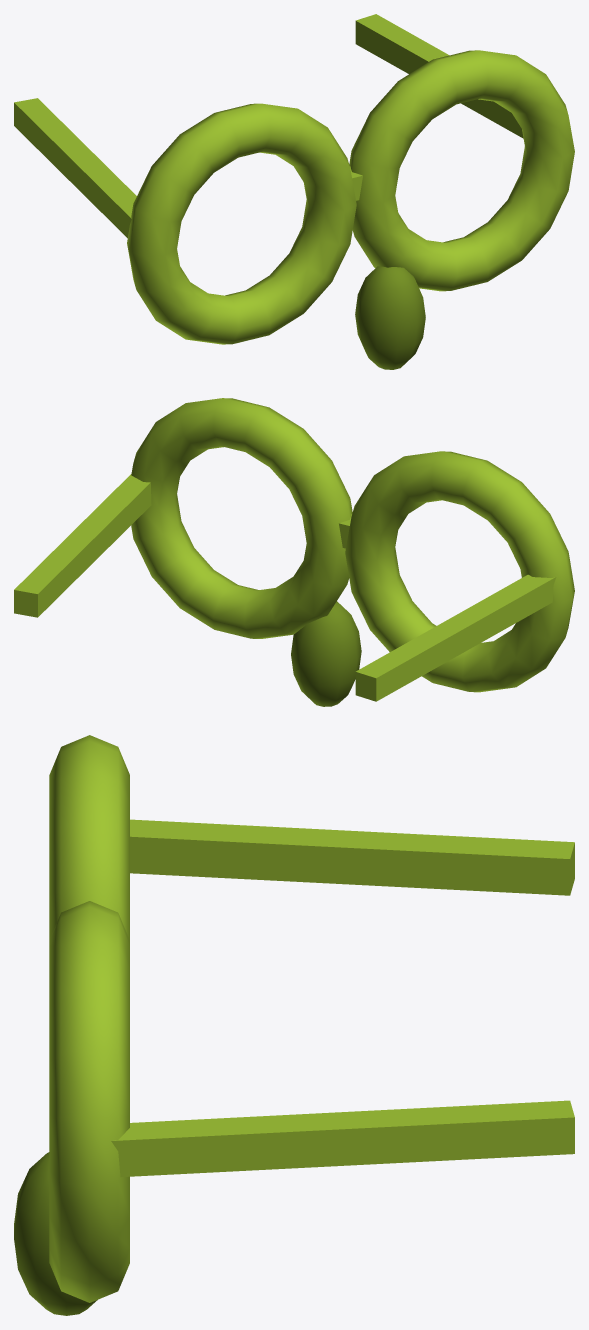
Rendered from accessory-booger.glb.
The picture shows the model from 3 angles, top to bottom: view 1: azimuth 30°, elevation 25°; view 2: azimuth 150°, elevation 25°; view 3: azimuth 270°, elevation 25°; orthographic projection. The views are drawn at different scales.
Parts seen in each view (by area): view 1: accessory-booger; view 2: accessory-booger; view 3: accessory-booger.
Part boxes in pixels (x1=…): accessory-booger: x1=14, y1=14, x2=574, y2=369; accessory-booger: x1=14, y1=398, x2=574, y2=706; accessory-booger: x1=14, y1=735, x2=574, y2=1315.
Size of the model in its own units: 0.69 by 0.4303 by 0.4862.
